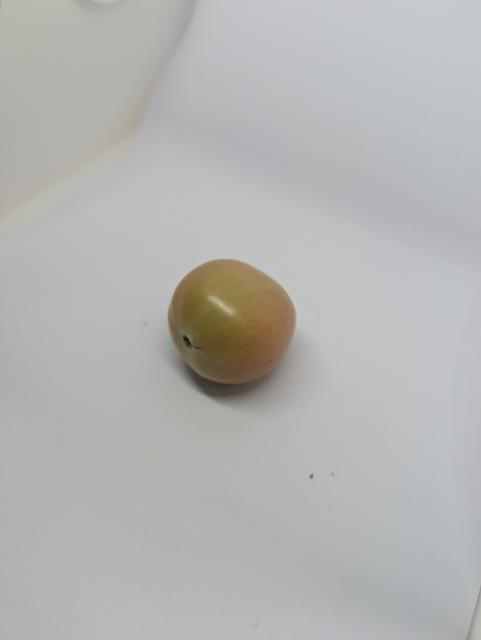turning: (159, 256, 301, 393)
